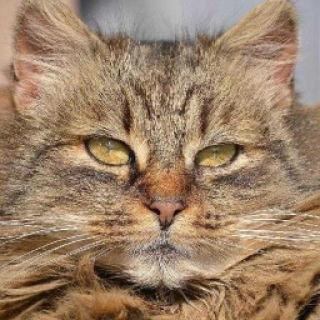cat: (15, 8, 309, 298)
nose: (139, 170, 191, 232)
